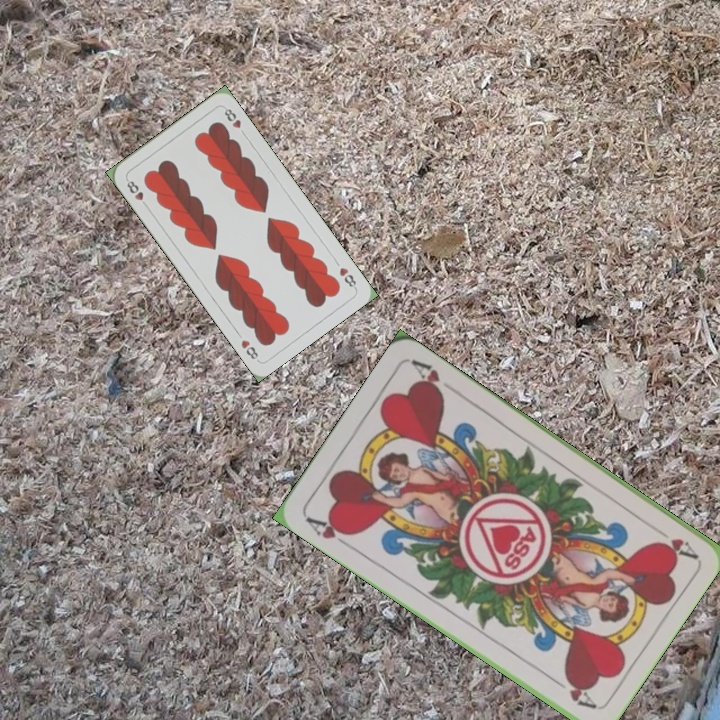H8: (122, 175, 151, 210), (335, 263, 359, 292)
HA: (301, 512, 356, 552), (653, 534, 699, 562)
